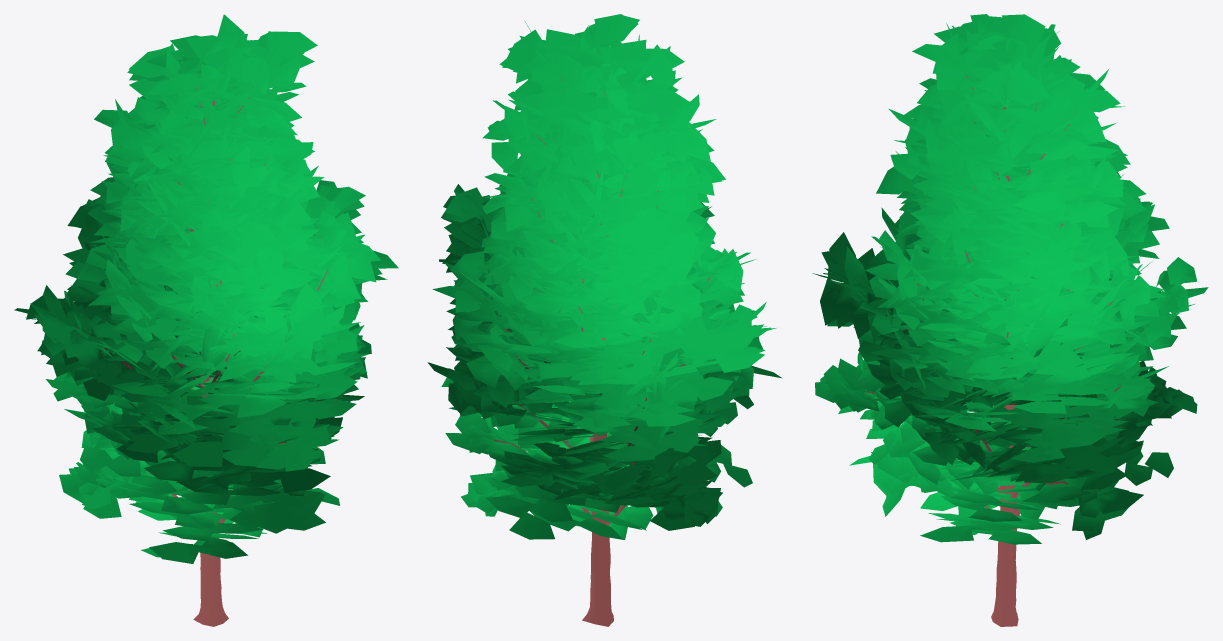
File: SM_Tree1.fbx
3 views of the same model, side by side, from view 1: azimuth 30°, elevation 25°; view 2: azimuth 150°, elevation 25°; view 3: azimuth 270°, elevation 25° (orthographic). The views are drawn at different scales.
Visible parts, largest first — view 1: SM_TreeFinal_1; view 2: SM_TreeFinal_1; view 3: SM_TreeFinal_1.
Boxes of the visible parts, bbox=[...] form: SM_TreeFinal_1: bbox=[14, 14, 398, 626]; SM_TreeFinal_1: bbox=[427, 14, 781, 626]; SM_TreeFinal_1: bbox=[812, 14, 1208, 626].
Bounding box in the file's own units: 5.83 × 9.63 × 5.82.
